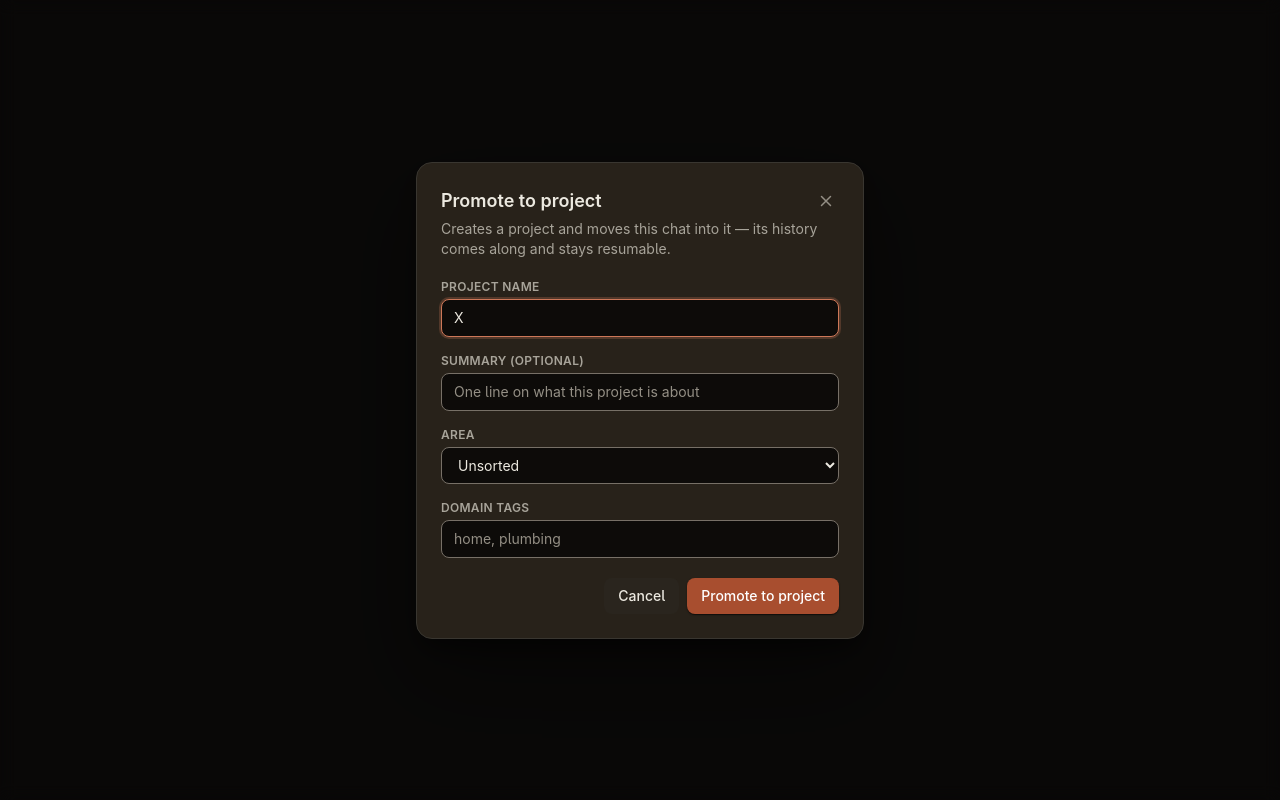
Test: PromoteChatModal › surfaces an API error and stays open
Click the button "Promote to project". click: (763, 596)
box: [687,578,839,614]
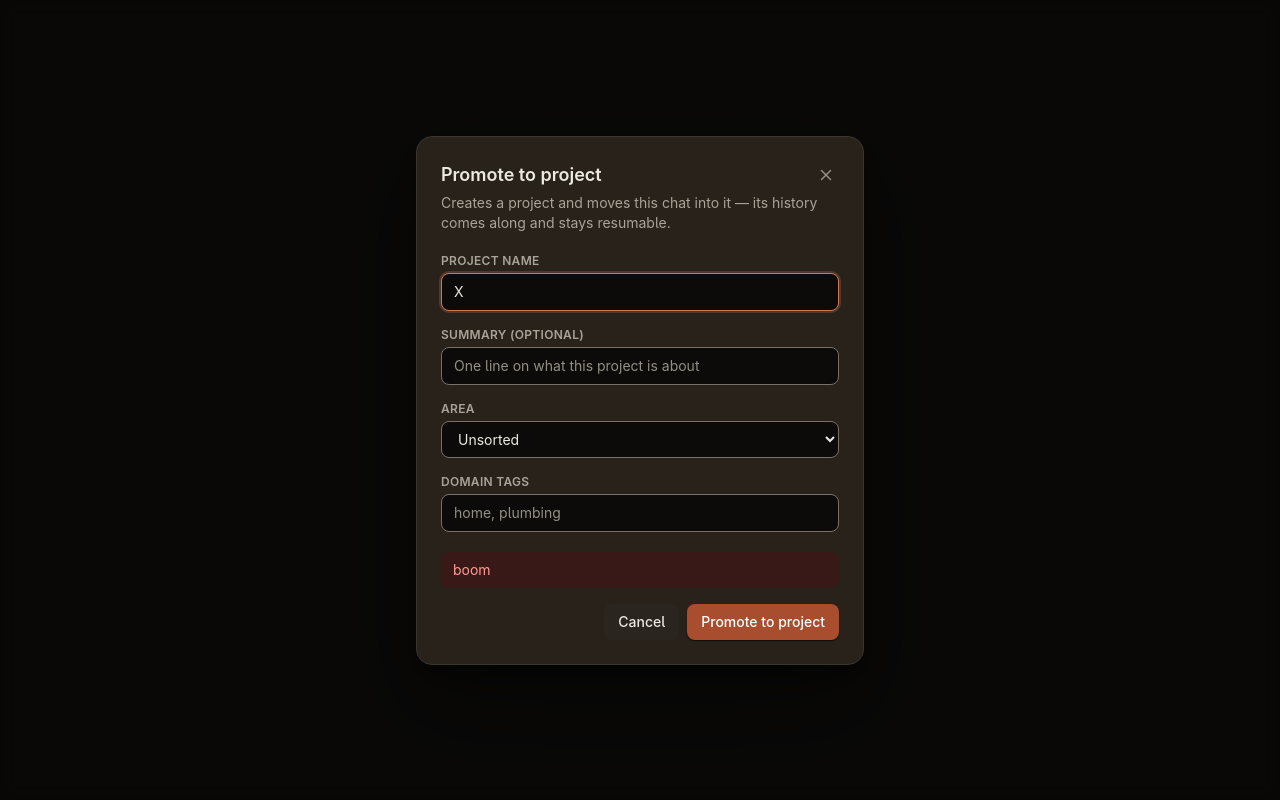
expect the text "boom" is shown: met, box [441,552,839,588]
